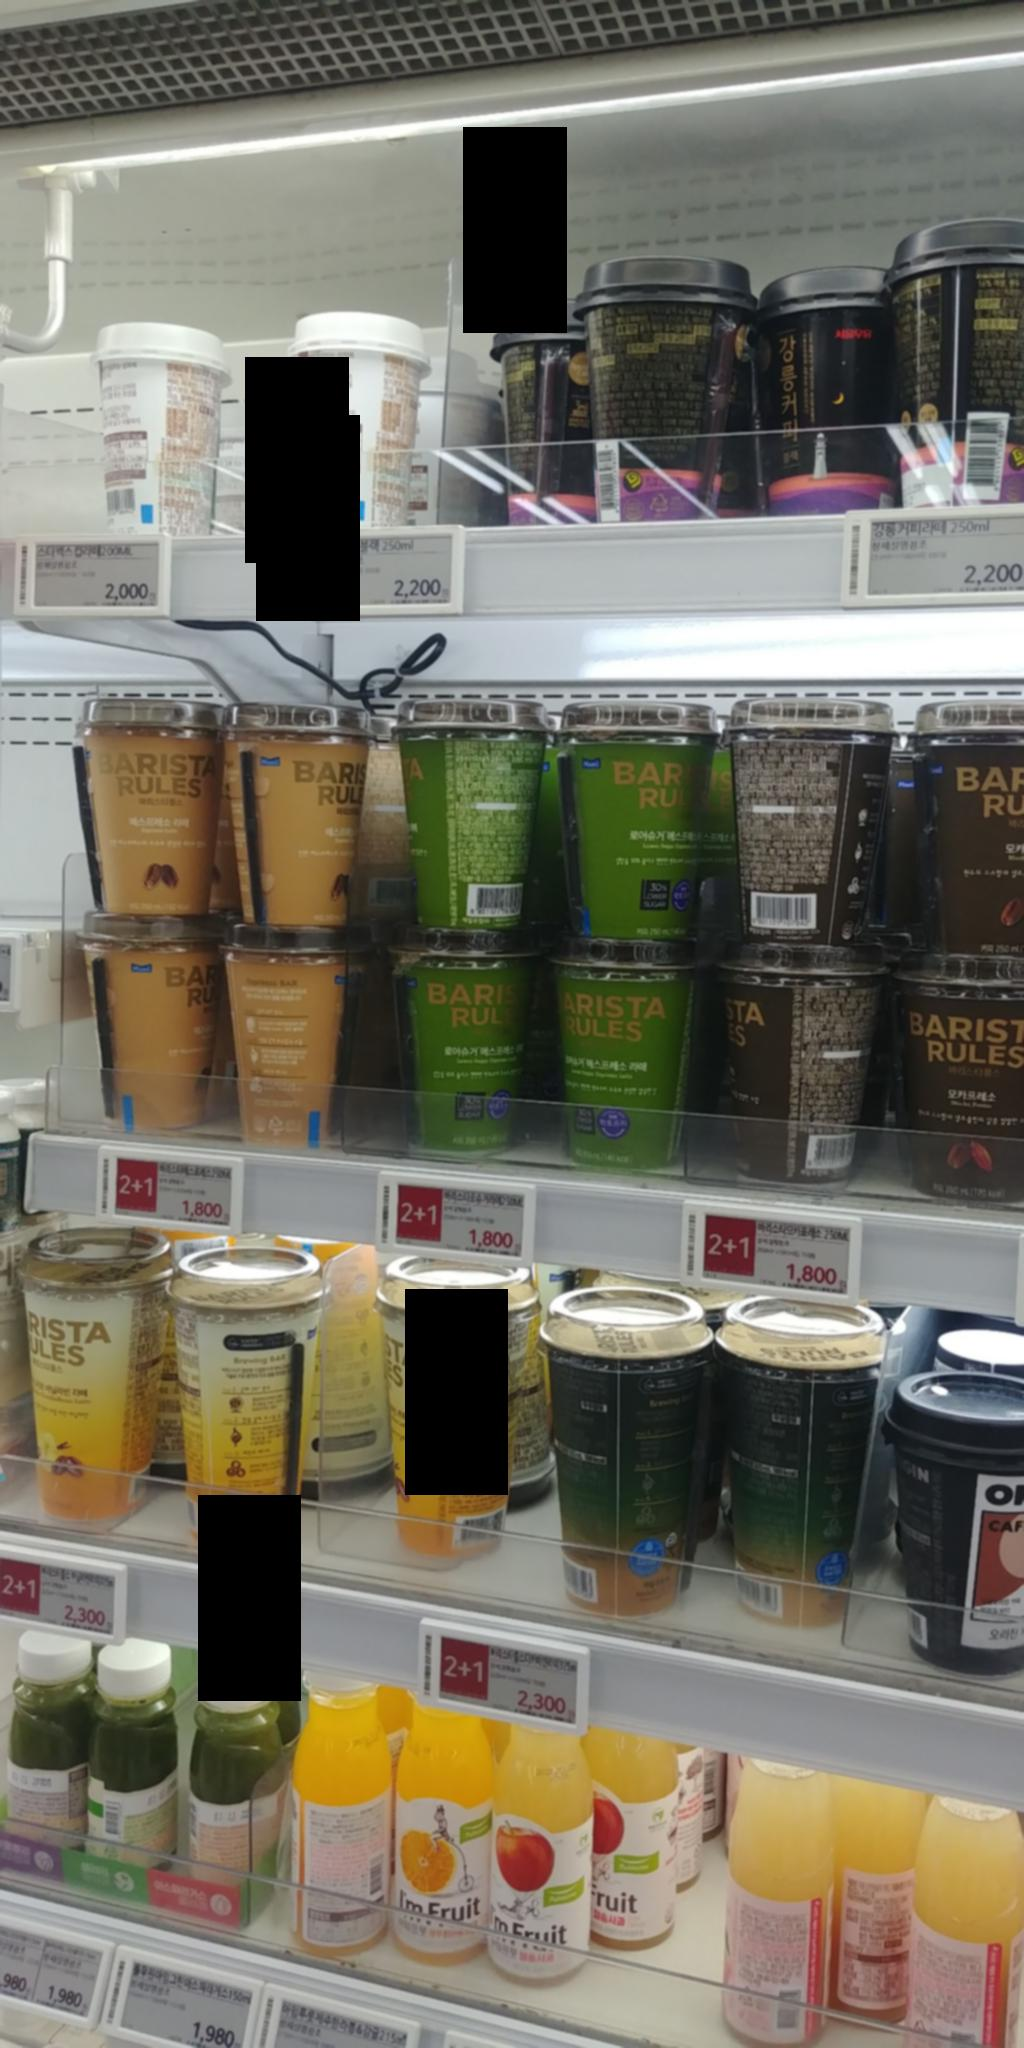baristarules_espressolatte: (65, 687, 229, 913), (82, 913, 225, 1142), (213, 917, 341, 1159), (217, 704, 349, 933)
